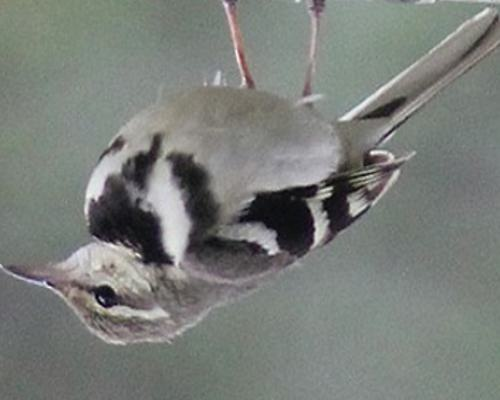wagtail: (21, 12, 449, 340)
